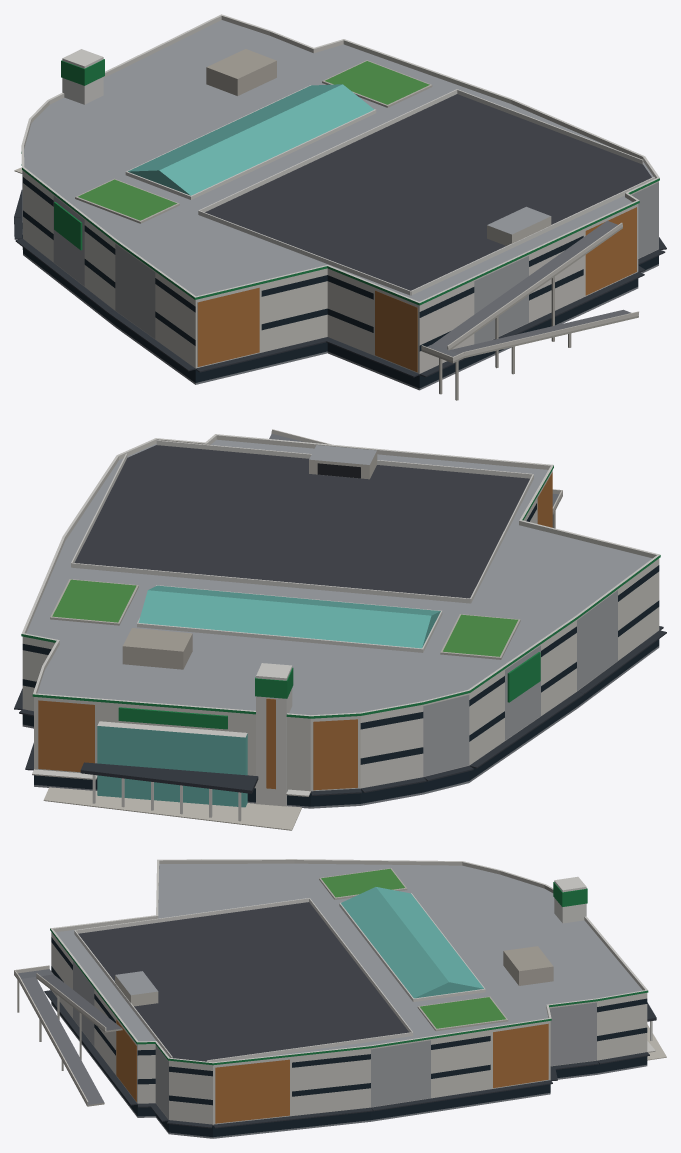
The model's file is living-world-lod1.glb.
3 views of the same model, one above another, from view 1: azimuth 30°, elevation 25°; view 2: azimuth 150°, elevation 25°; view 3: azimuth 270°, elevation 25° (orthographic). The views are drawn at different scales.
Parts seen in each view (by area): view 1: living-world_LOD1; view 2: living-world_LOD1; view 3: living-world_LOD1.
Boxes of the visible parts, x1,y1,x2,y2 form: living-world_LOD1: [14, 14, 666, 400]; living-world_LOD1: [14, 429, 666, 830]; living-world_LOD1: [14, 859, 666, 1138].
Size of the model in its own units: 137 by 32.35 by 180.
